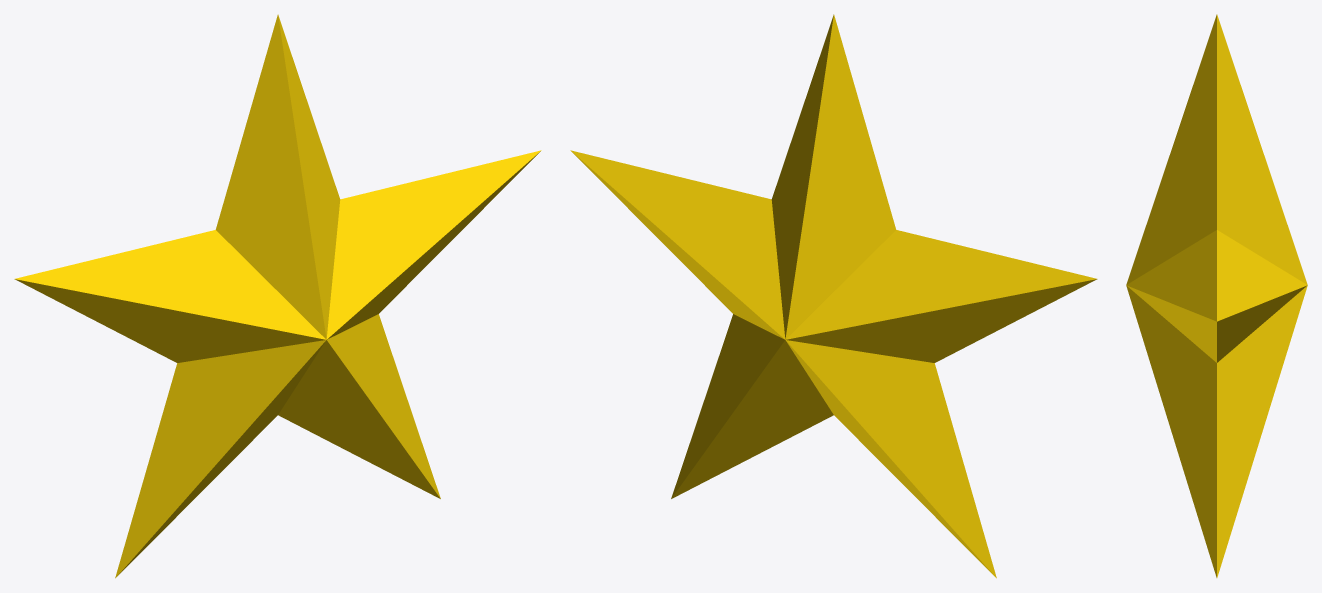
File: Star.FBX
3 views of the same model, side by side, from view 1: azimuth 30°, elevation 25°; view 2: azimuth 150°, elevation 25°; view 3: azimuth 270°, elevation 25° (orthographic). The views are drawn at different scales.
Visible parts, largest first — view 1: Star; view 2: Star; view 3: Star.
Boxes of the visible parts, left/top/right/bottom form: Star: left=14, top=14, right=541, bottom=578; Star: left=570, top=14, right=1097, bottom=578; Star: left=1126, top=14, right=1307, bottom=577.
Size of the model in its own units: 20.84 by 19.82 by 6.65.
